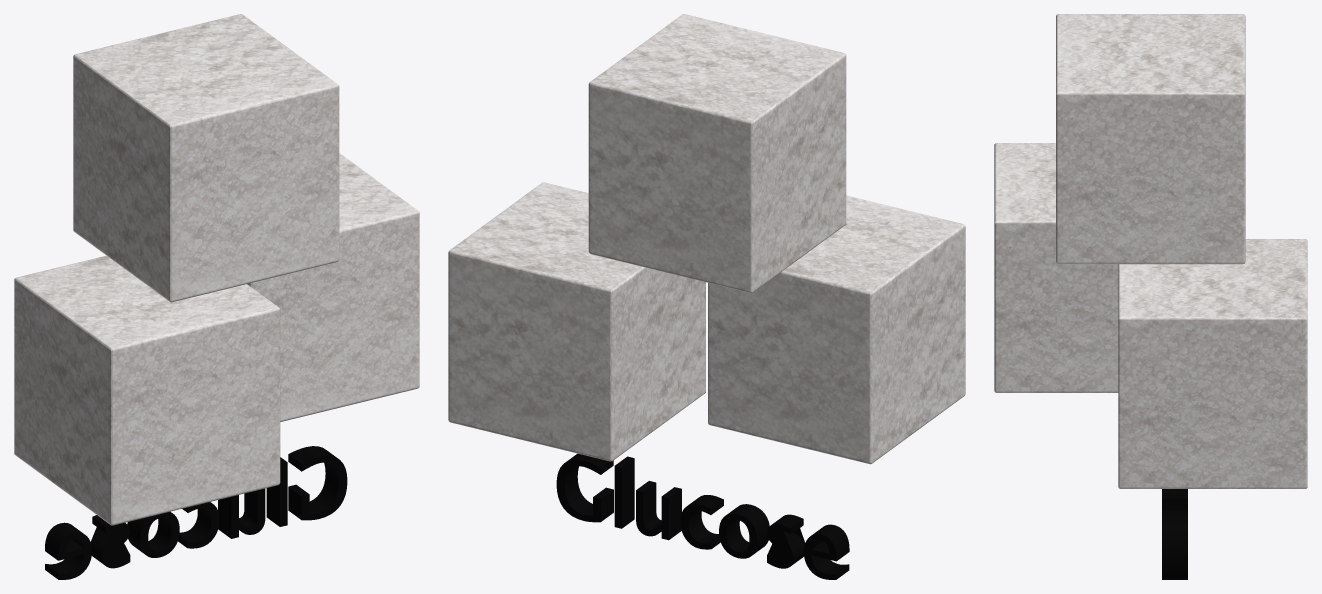
File: Glucose V2.fbx
The picture shows the model from 3 angles, left to right: view 1: azimuth 30°, elevation 25°; view 2: azimuth 150°, elevation 25°; view 3: azimuth 270°, elevation 25°; orthographic projection. The views are drawn at different scales.
Parts seen in each view (by area): view 1: Glucose3, Glucose2, Glucose, typeMesh3; view 2: Glucose3, Glucose, Glucose2, typeMesh3; view 3: Glucose3, Glucose, Glucose2, typeMesh3.
Boxes of the visible parts, box(x1,y1,x2,y2) form: Glucose3: box(73, 14, 339, 302); Glucose2: box(14, 255, 280, 525); Glucose: box(247, 153, 419, 421); typeMesh3: box(45, 446, 347, 579); Glucose3: box(588, 14, 846, 293); Glucose: box(448, 182, 705, 461); Glucose2: box(708, 195, 965, 464); typeMesh3: box(556, 453, 849, 579); Glucose3: box(1056, 14, 1245, 264); Glucose: box(1118, 239, 1307, 488); Glucose2: box(994, 143, 1118, 392); typeMesh3: box(1162, 489, 1187, 579).
Bounding box in the file's own units: 2.19 × 2.71 × 1.65.
2 materials, 1 textured.
